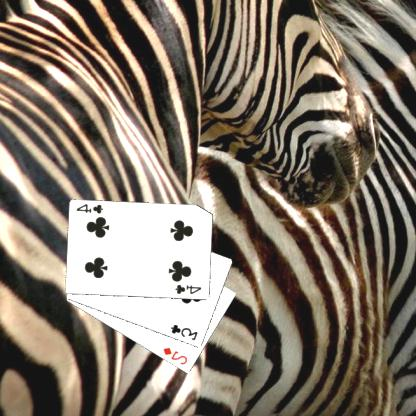2D: (162, 345, 191, 366)
3C: (170, 322, 201, 342)
4C: (75, 201, 107, 215), (174, 282, 205, 296)
